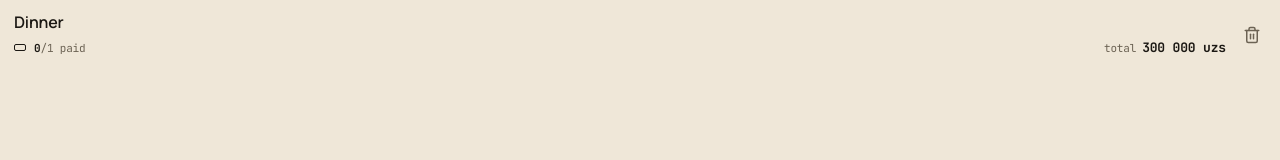
it: CollectingRow › deletes the bill from «⋯» after asking in the row
Later steps or results of the test are not shown.
Click the button named "Delete bill". click: click(1252, 35)
box: [1238, 19, 1266, 51]
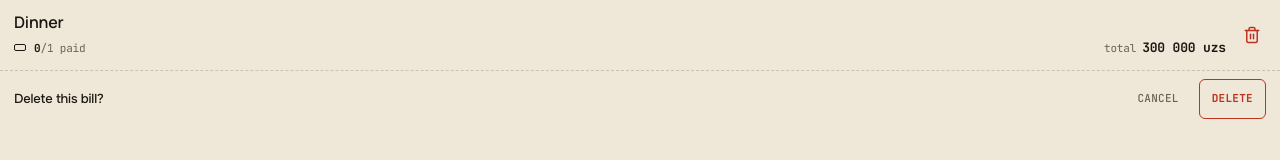
Expected: the text "Delete this bill?" is shown, [14, 89, 104, 108]
